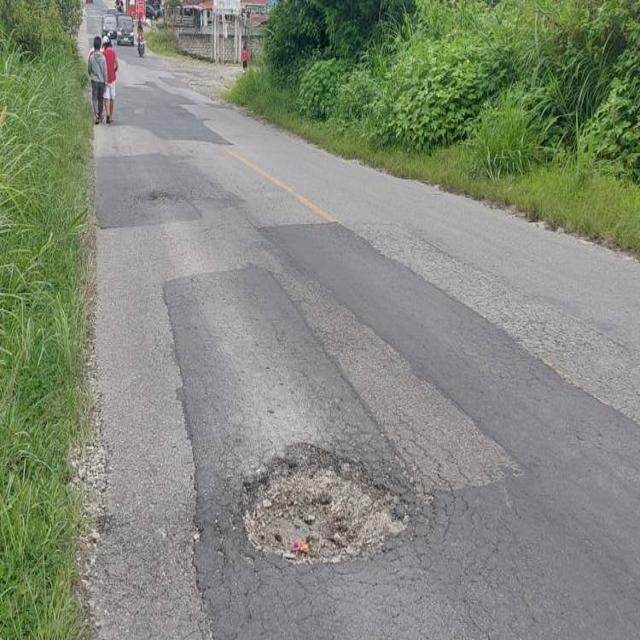Lubang: (235, 452, 402, 569)
Sambungan: (162, 220, 640, 640), (86, 151, 211, 232)
